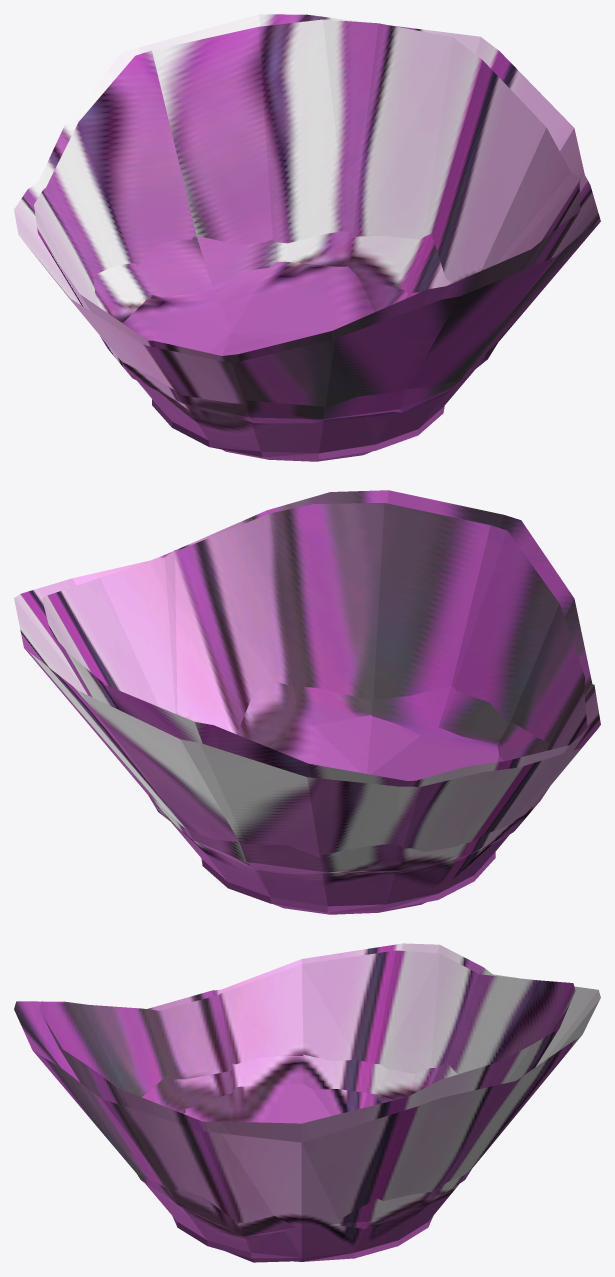
The model's file is BVase1.glb.
3 renders of one model, top to bottom at view 1: azimuth 30°, elevation 25°; view 2: azimuth 150°, elevation 25°; view 3: azimuth 270°, elevation 25°, orthographic. The views are drawn at different scales.
Parts seen in each view (by area): view 1: BVase1; view 2: BVase1; view 3: BVase1.
Part boxes in pixels (x1,y1,x2,y2): BVase1: (14, 14, 600, 461); BVase1: (14, 490, 600, 914); BVase1: (14, 943, 600, 1262).
Size of the model in its own units: 92 by 46.75 by 101.
1 material, 1 textured.
